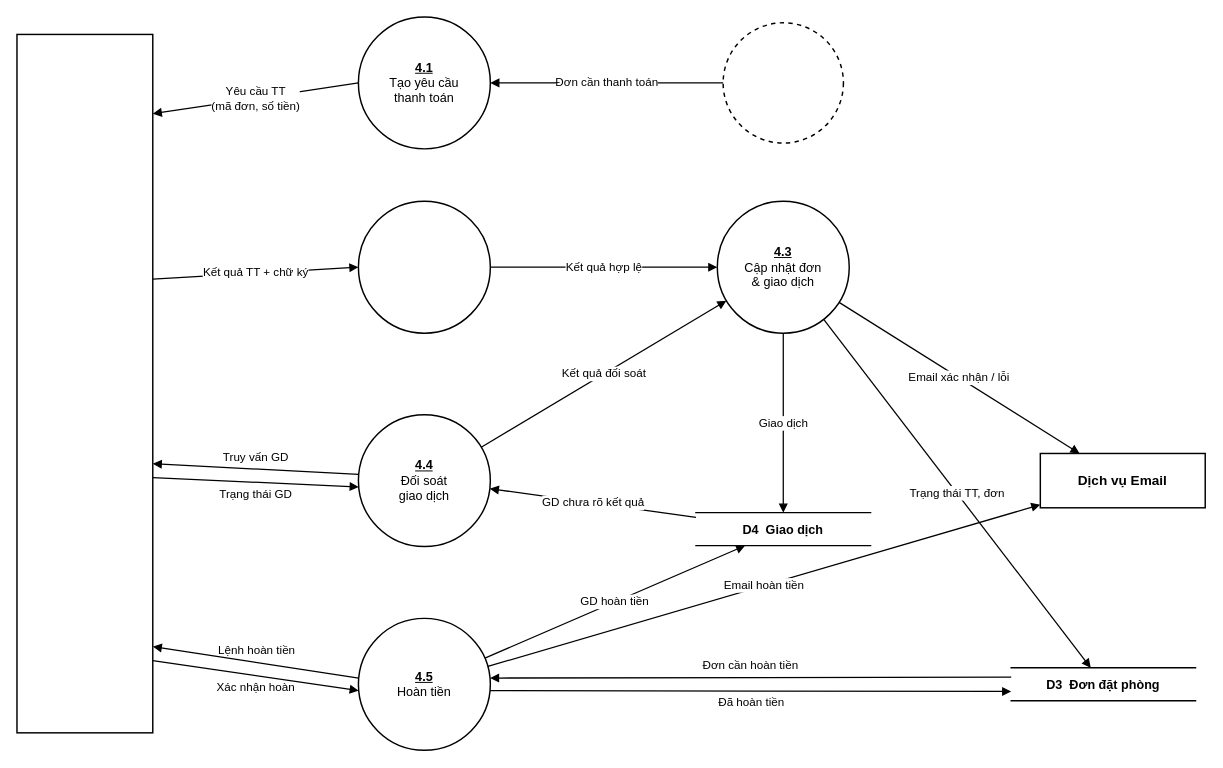
The diagram is 1223 pixels wide and 768 high, and some of its shapes have lost their labels. The shapes that lost their labels are listed below. From the top down, each one's centre as x and y in pixels, then its label:
the point at 783,82: 3.0 Đặt phòng
the point at 424,266: 4.2 Xác thực kết quả
the point at 84,383: Cổng thanh toán
